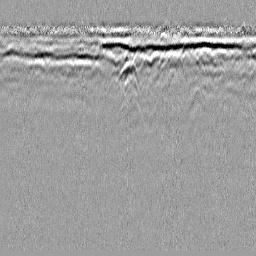cavity: (117, 59, 140, 85)
